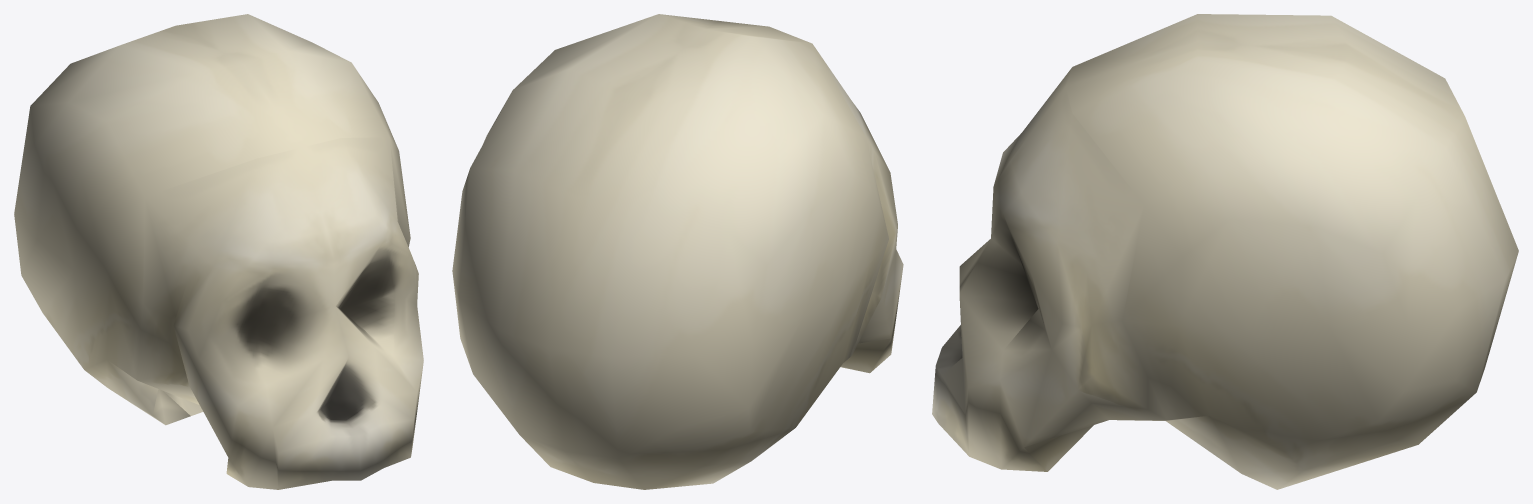
The model's file is skull.FBX.
3 views of the same model, side by side, from view 1: azimuth 30°, elevation 25°; view 2: azimuth 150°, elevation 25°; view 3: azimuth 270°, elevation 25° (orthographic). The views are drawn at different scales.
Parts seen in each view (by area): view 1: Box001; view 2: Box001; view 3: Box001.
Boxes of the visible parts, <box> form: Box001: <box>14,14,423,489</box>; Box001: <box>452,14,903,489</box>; Box001: <box>932,14,1518,489</box>.
Bounding box in the file's own units: 0.692 × 1.04 × 0.8455.
